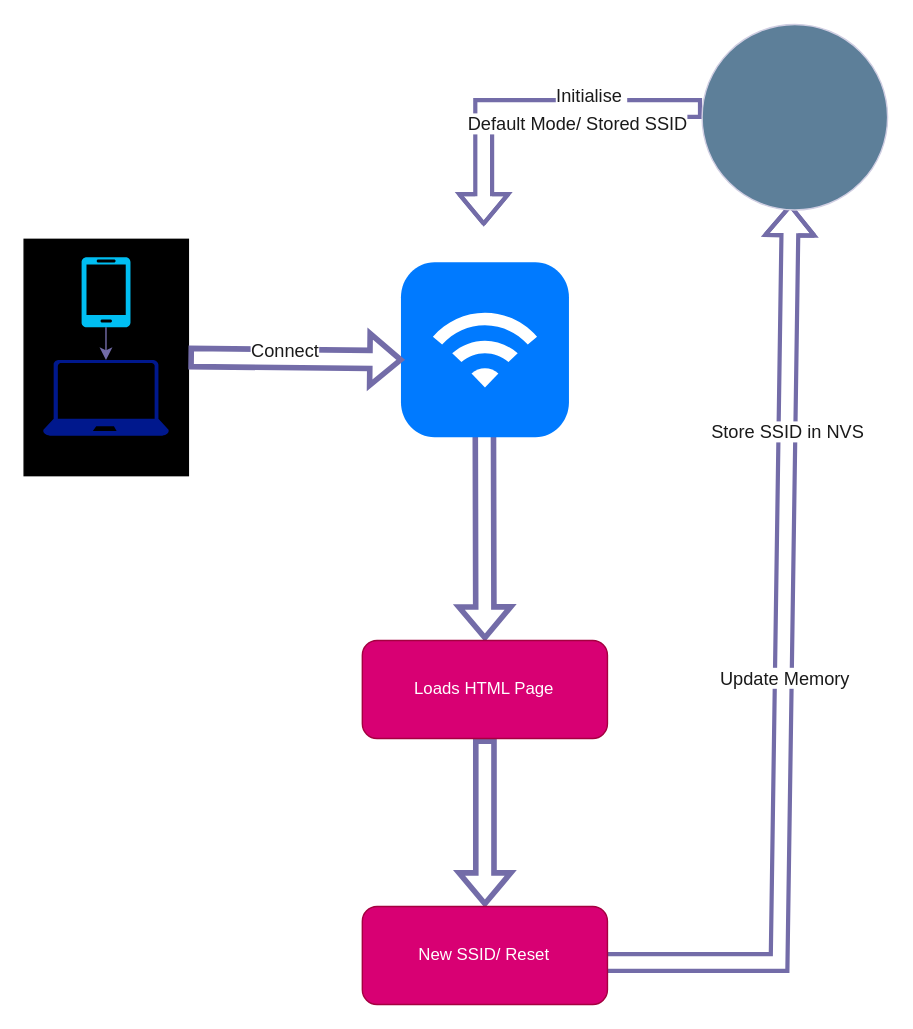
This 913x1029 diagram has some shape labels left out. The centre of each missing label's shape, as x and y in pixels:
ESP32: [794,116]
WIFI Access Point: [484,349]
